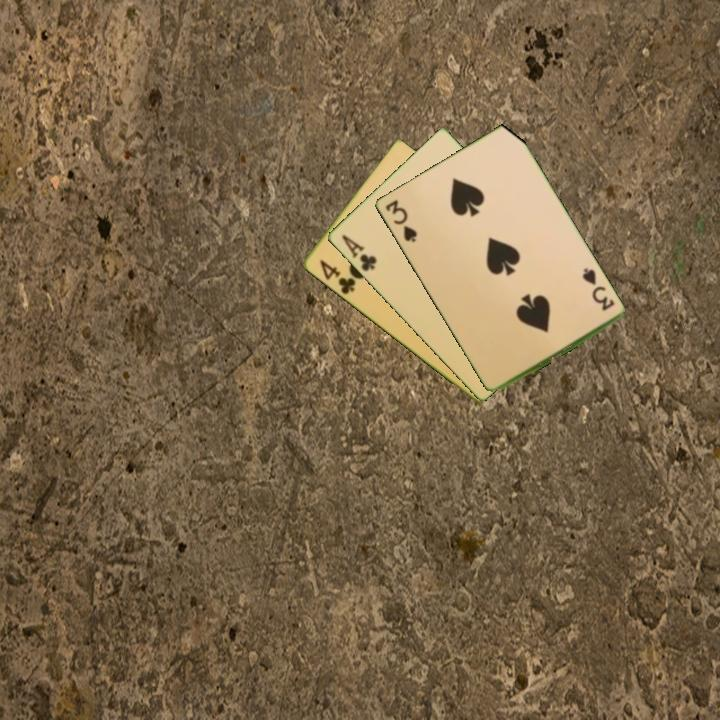3s: (381, 196, 420, 245), (578, 265, 617, 314)
4c: (316, 256, 358, 298)
Ac: (338, 231, 379, 274)
